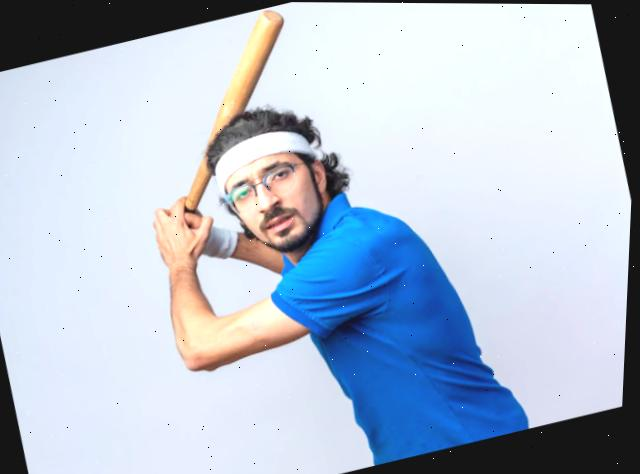baseball bat: (135, 4, 327, 223)
